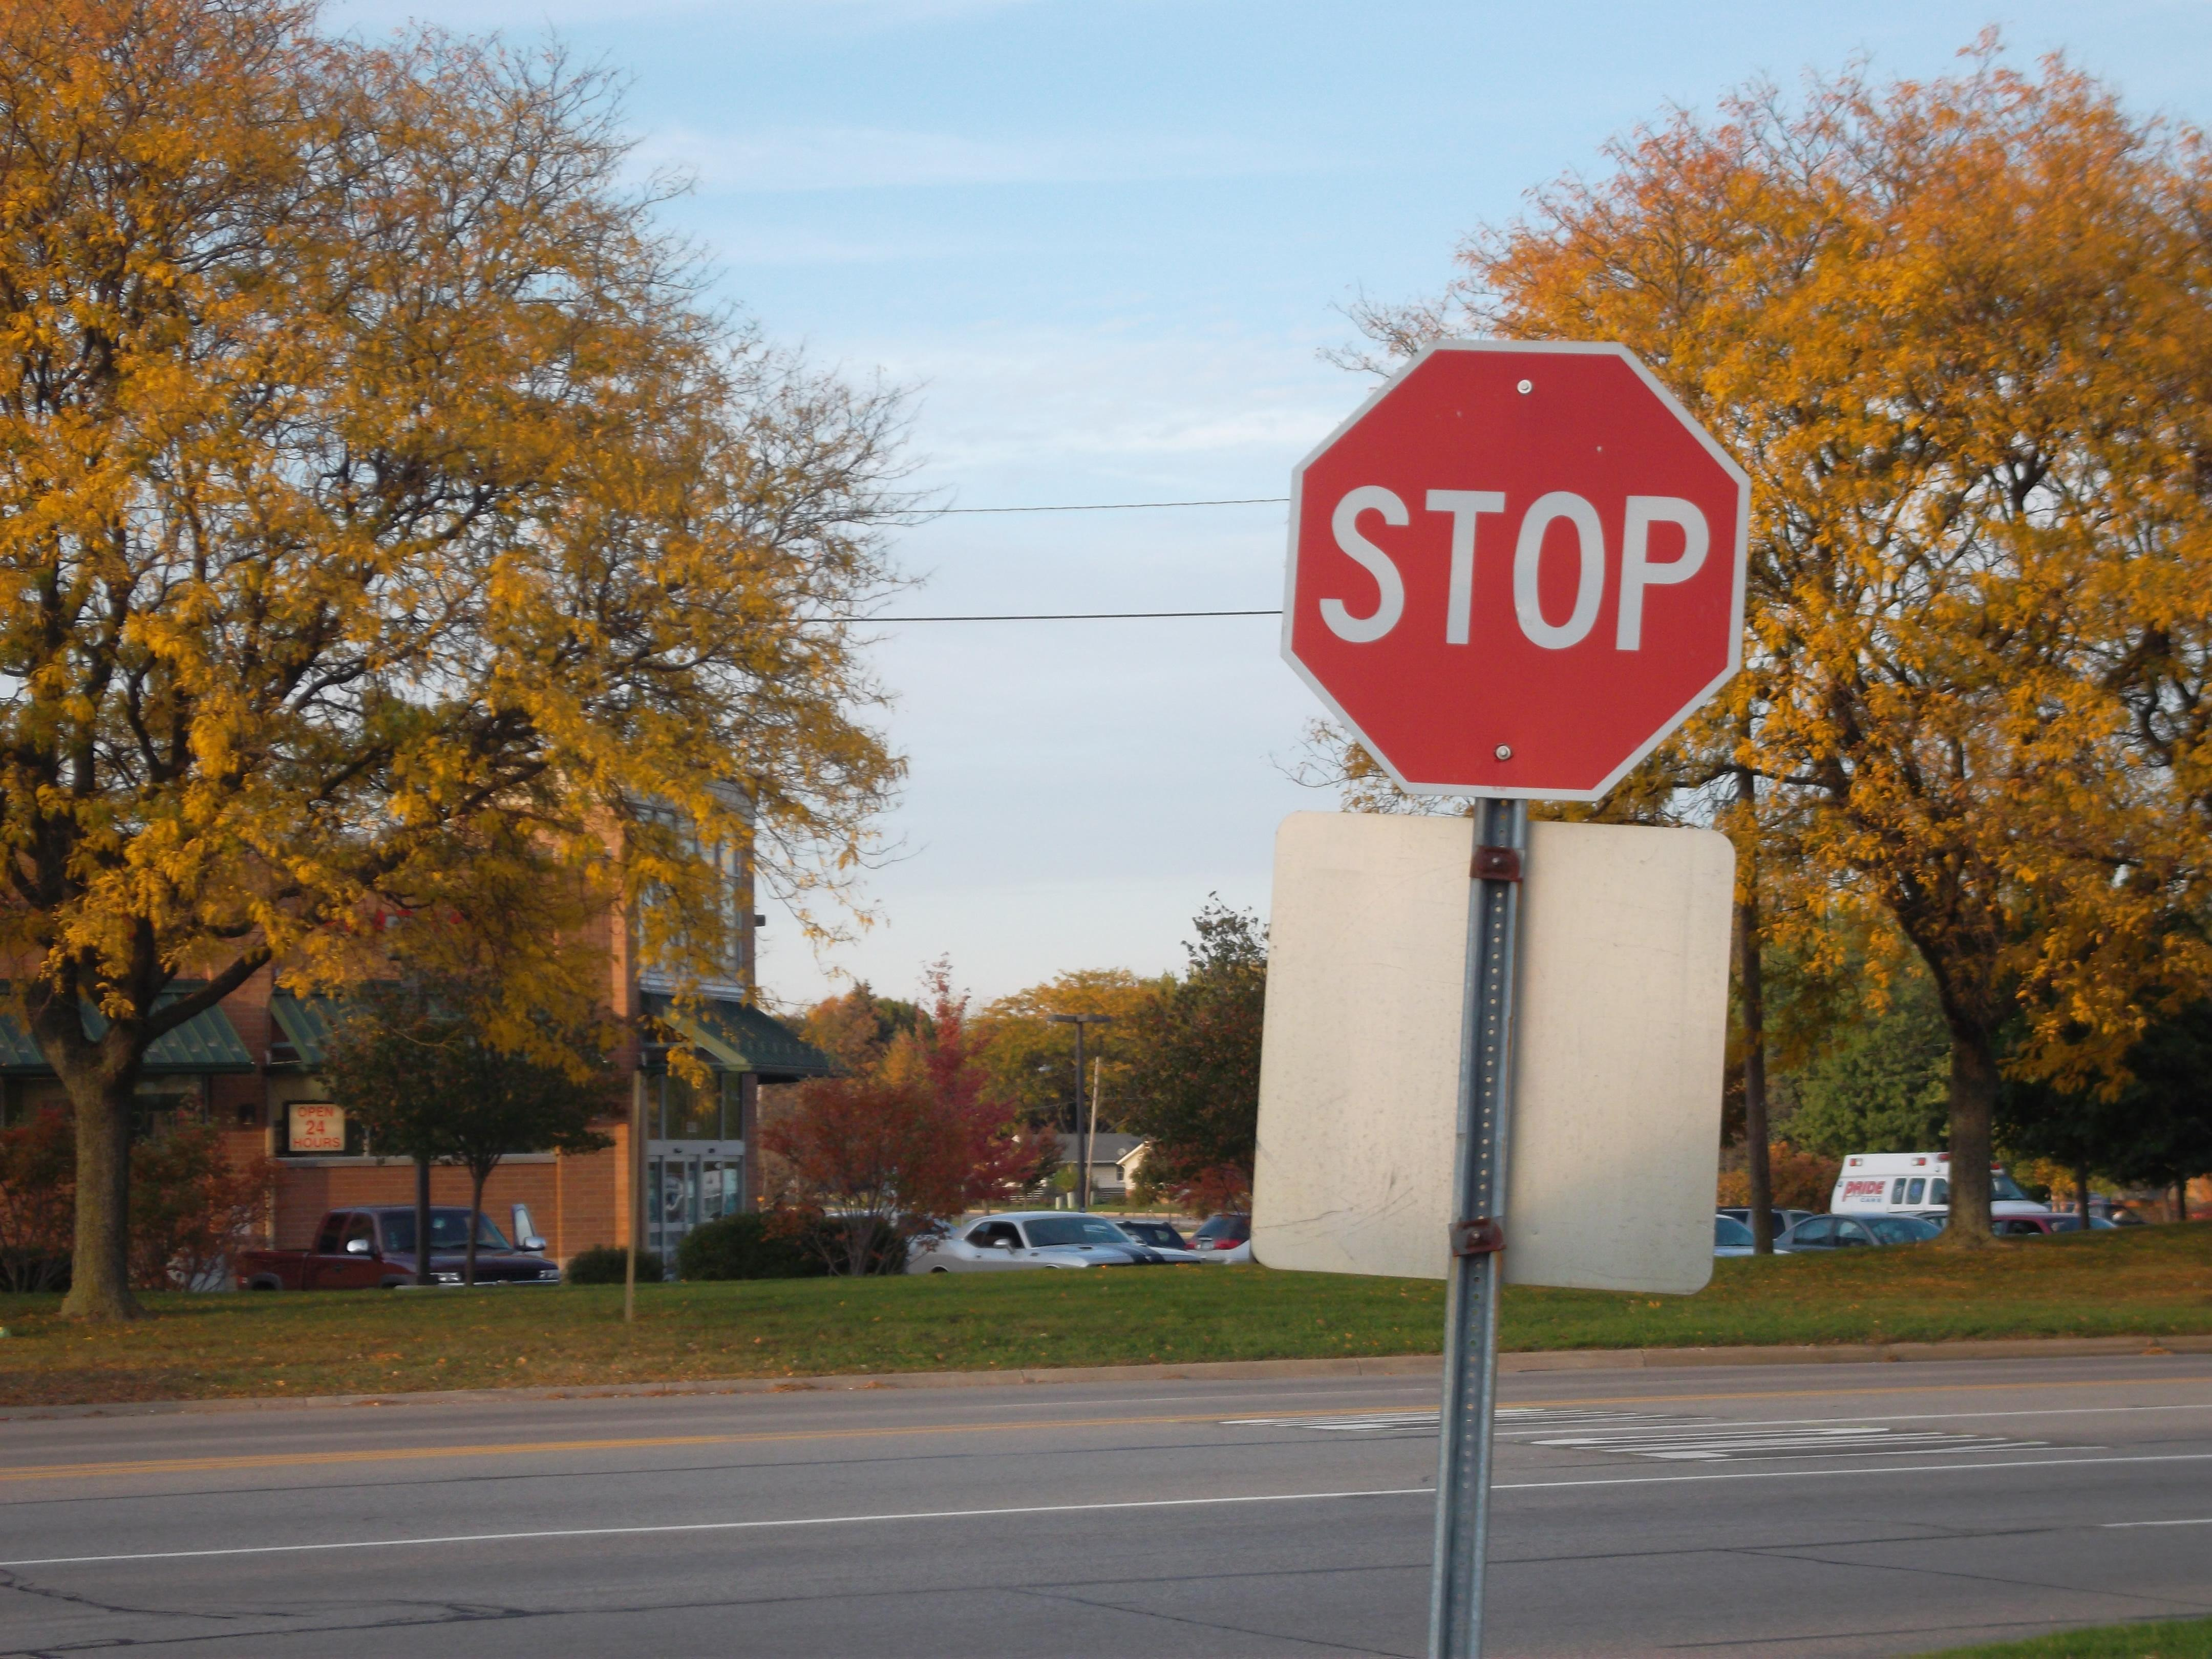stop: (1282, 335, 1754, 814)
